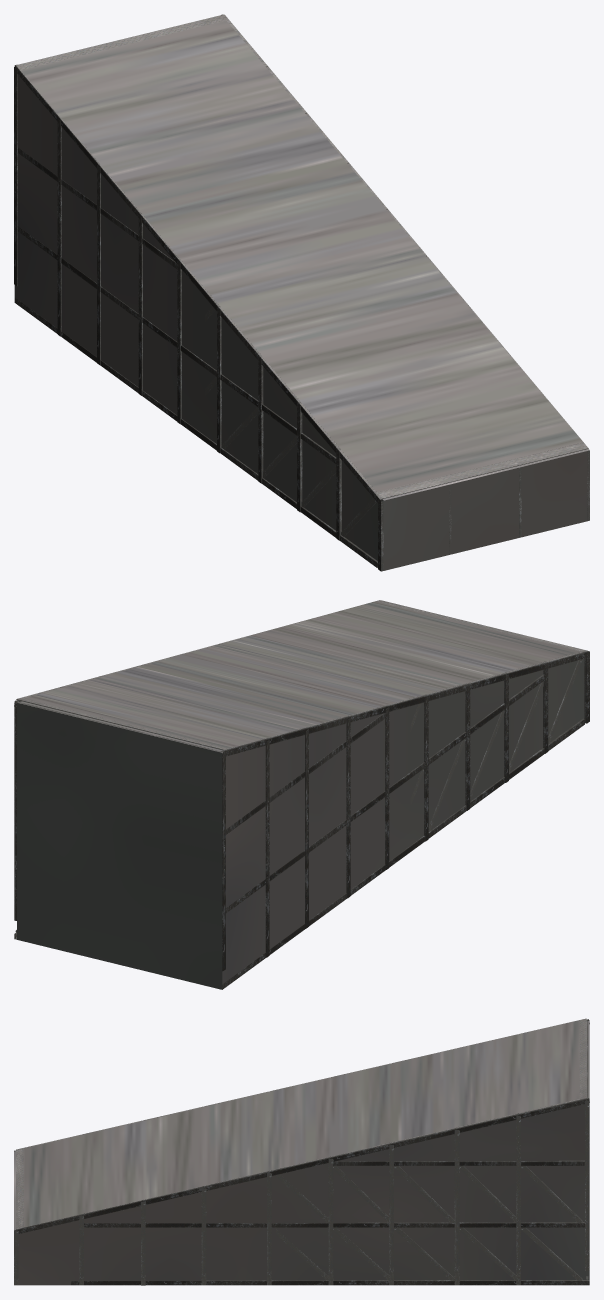
Rendered from platform_ramp.dae.
3 renders of one model, top to bottom at view 1: azimuth 30°, elevation 25°; view 2: azimuth 150°, elevation 25°; view 3: azimuth 270°, elevation 25°, orthographic. The views are drawn at different scales.
Visible parts, largest first — view 1: Colmesh-1, platform_ramp_a020, platform_ramp_a200; view 2: Colmesh-1, platform_ramp_a020, platform_ramp_a200; view 3: Colmesh-1, platform_ramp_a200, platform_ramp_a020.
Boxes of the visible parts, x1,y1,x2,y2 form: Colmesh-1: [14, 20, 589, 570]; platform_ramp_a020: [14, 15, 589, 570]; platform_ramp_a200: [14, 14, 589, 571]; Colmesh-1: [17, 601, 584, 989]; platform_ramp_a020: [17, 603, 584, 989]; platform_ramp_a200: [14, 600, 589, 989]; Colmesh-1: [18, 1020, 589, 1285]; platform_ramp_a200: [14, 1018, 589, 1285]; platform_ramp_a020: [14, 1020, 589, 1285].
Bounding box in the file's own units: 4 × 12.18 × 4.37.
Materials: 1 (1 with a texture image).
